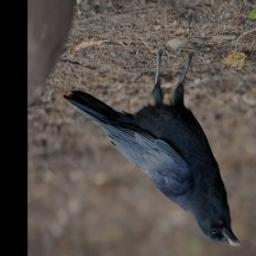Crow: (65, 43, 244, 248)
